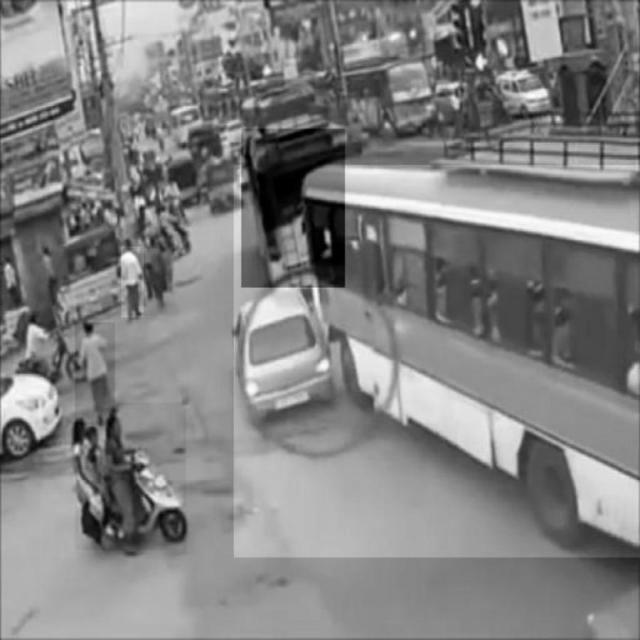accident: (234, 165, 640, 557)
person: (76, 323, 116, 425), (122, 246, 144, 317)
vehicle: (76, 403, 187, 550), (242, 129, 345, 287)
